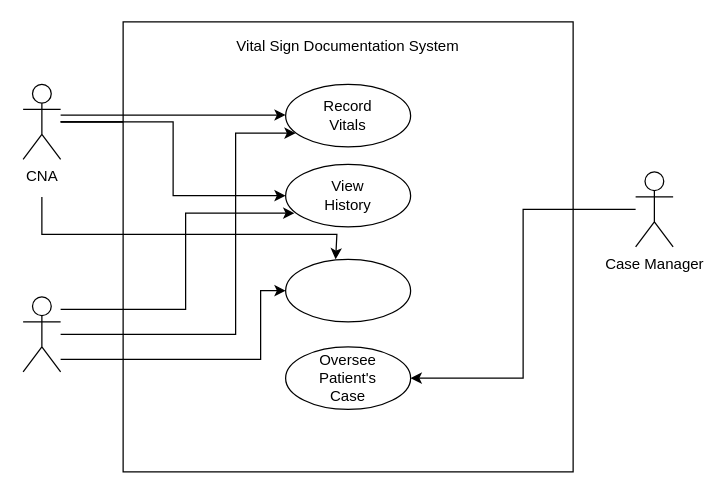
The diagram is 725 pixels wide and 494 high, and some of its shapes have lost their labels. Each missing label, with the centre of its shape:
"Nurse" goes at [41,334].
"View Health Trend Graphs" goes at [347,290].
